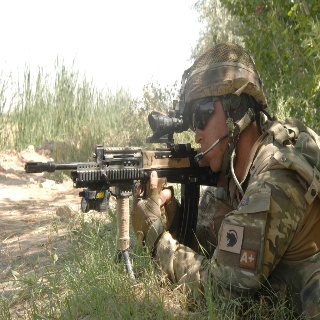rifle: (23, 110, 222, 251)
